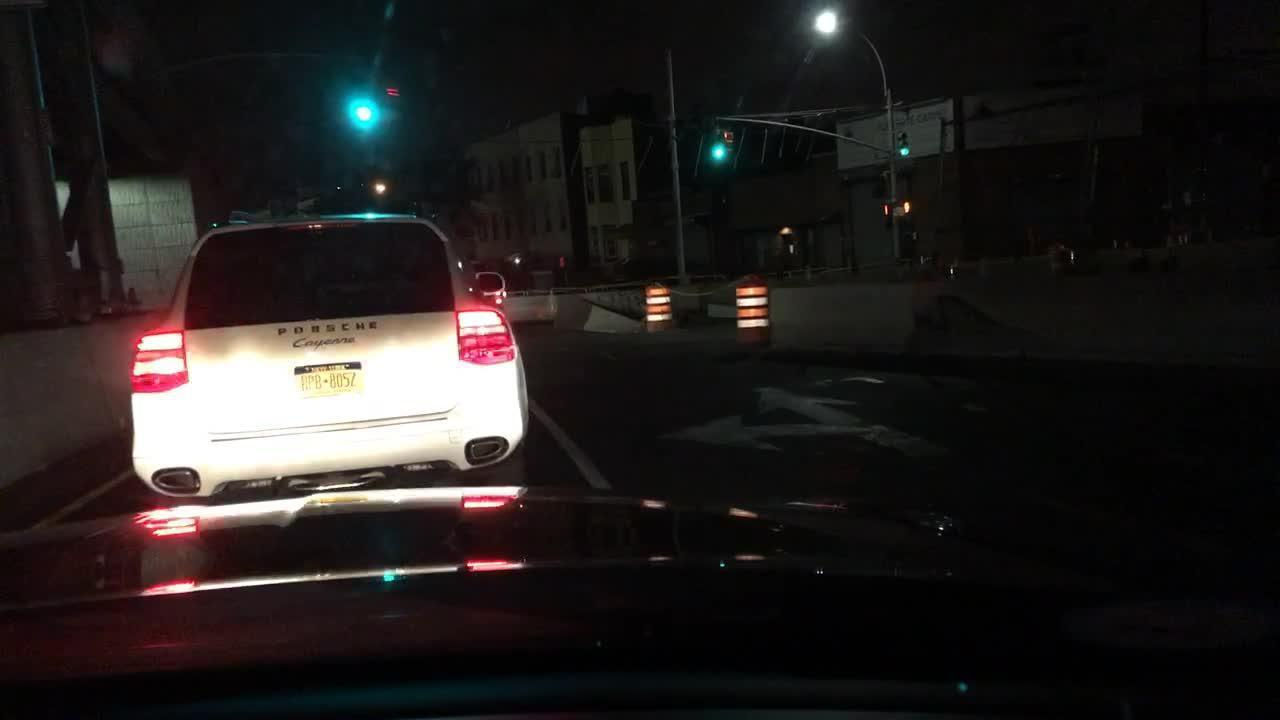porsche: (275, 319, 386, 342)
